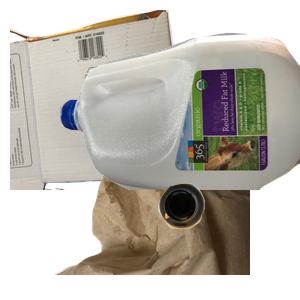cardboard: (10, 10, 191, 190)
glass: (156, 181, 300, 300)
plastic: (60, 30, 300, 210)
trash: (52, 120, 292, 300)
